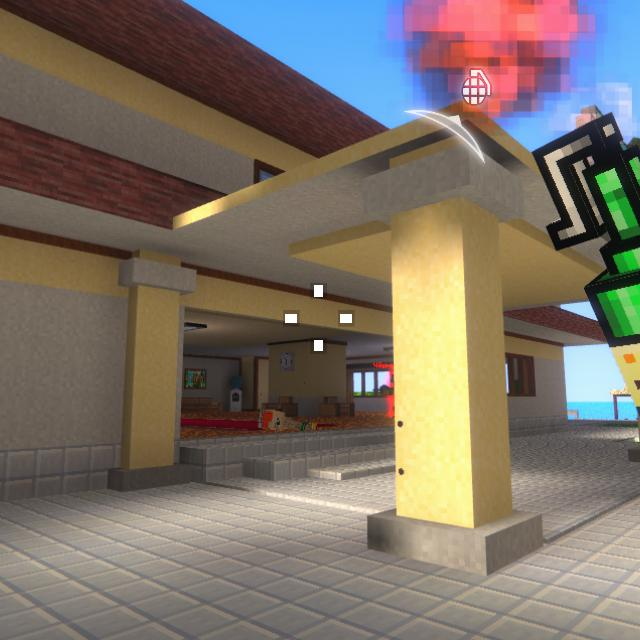Enemy: (407, 0, 576, 121), (385, 370, 392, 413), (388, 373, 395, 415)
